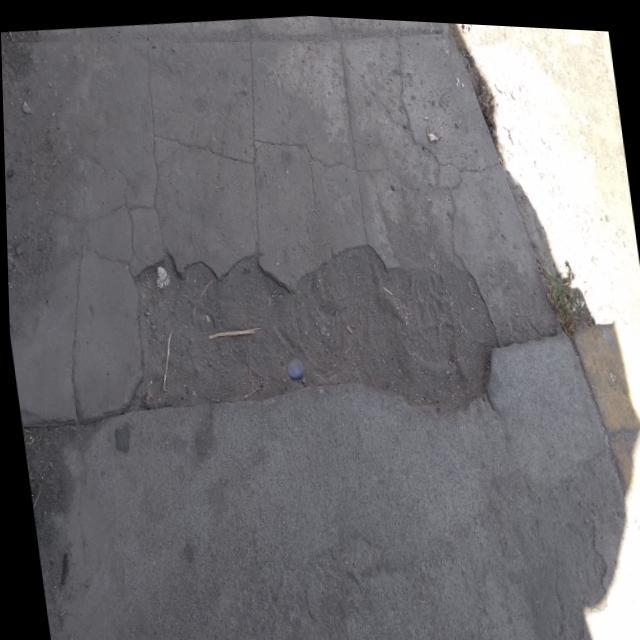hole: (118, 211, 508, 446)
